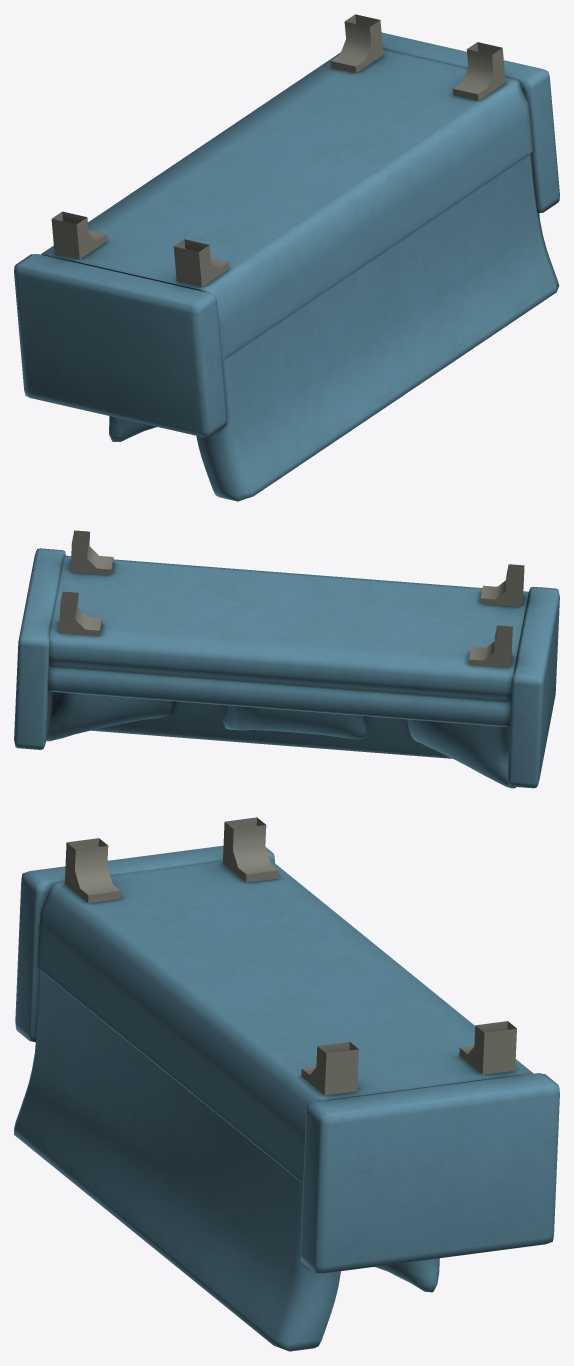
File: couch2.glb
3 views of the same model, one above another, from view 1: azimuth 30°, elevation 25°; view 2: azimuth 150°, elevation 25°; view 3: azimuth 270°, elevation 25° (orthographic). The views are drawn at different scales.
Parts seen in each view (by area): view 1: Sofa-material.001; view 2: Sofa-material.001; view 3: Sofa-material.001.
Part boxes in pixels (x1,y1,x2,y2): Sofa-material.001: (14,14,559,501); Sofa-material.001: (14,530,559,788); Sofa-material.001: (14,817,559,1351).
Bounding box in the file's own units: 0.4179 × 0.1825 × 0.2972.
1 material, 1 textured.
